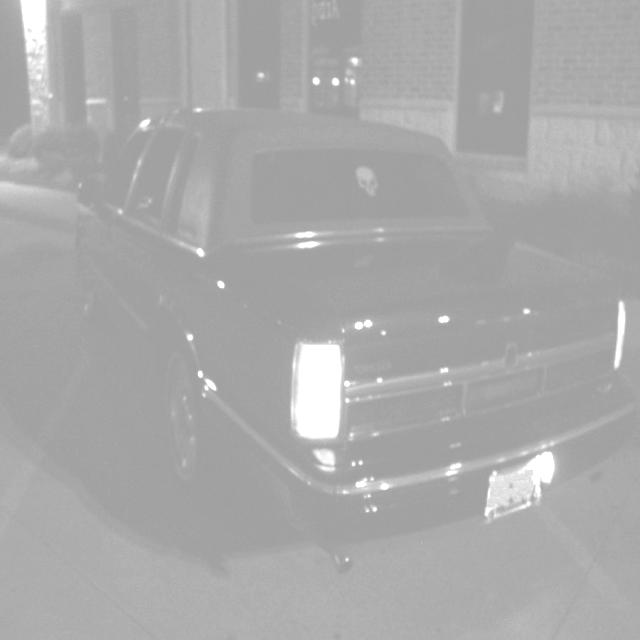Car: (74, 104, 640, 568)
